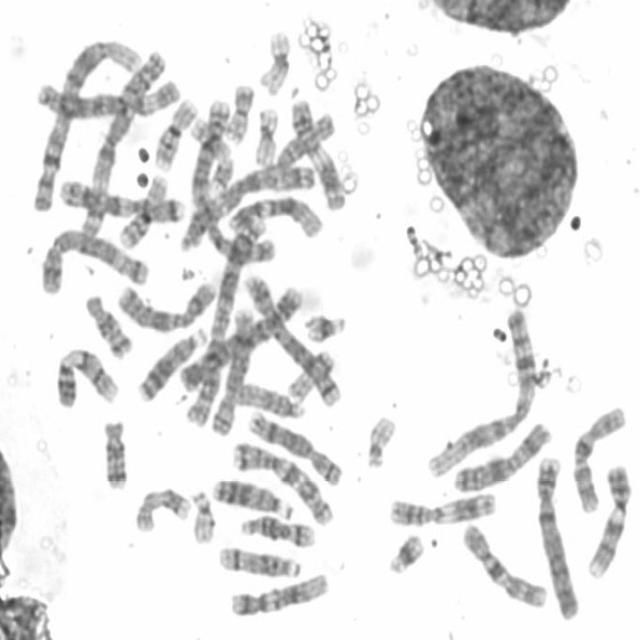A1: (421, 301, 541, 481), (28, 34, 148, 212)
A2: (180, 208, 272, 431), (184, 100, 276, 268)
A3: (76, 42, 170, 240), (176, 155, 320, 255)
B4: (173, 275, 306, 394), (531, 448, 585, 621)
B5: (240, 266, 344, 408), (34, 220, 152, 296)
C10: (457, 515, 551, 611), (567, 397, 630, 515)
C11: (285, 90, 349, 212), (384, 483, 499, 528)
C12: (225, 565, 332, 619), (220, 188, 326, 239)
C6: (29, 69, 185, 120)
C7: (226, 433, 338, 527), (55, 171, 188, 224)
C8: (244, 404, 346, 488), (206, 299, 257, 437)
C9: (583, 456, 635, 580), (51, 339, 122, 410)
D13: (133, 319, 211, 404), (208, 470, 296, 519)
D14: (213, 538, 303, 580), (235, 507, 318, 548)
D15: (270, 105, 338, 174), (230, 374, 309, 421)
E16: (114, 166, 171, 250), (149, 90, 200, 171)
E17: (186, 111, 238, 192), (130, 478, 193, 535)
E18: (80, 287, 134, 359), (97, 412, 131, 492)
F19: (253, 21, 296, 96), (249, 98, 282, 168)
F20: (284, 342, 338, 403), (221, 75, 257, 144)
G21: (382, 525, 428, 576), (299, 304, 349, 345)
G22: (361, 407, 400, 470), (186, 482, 219, 546)
X: (449, 414, 555, 493), (112, 272, 219, 334)
